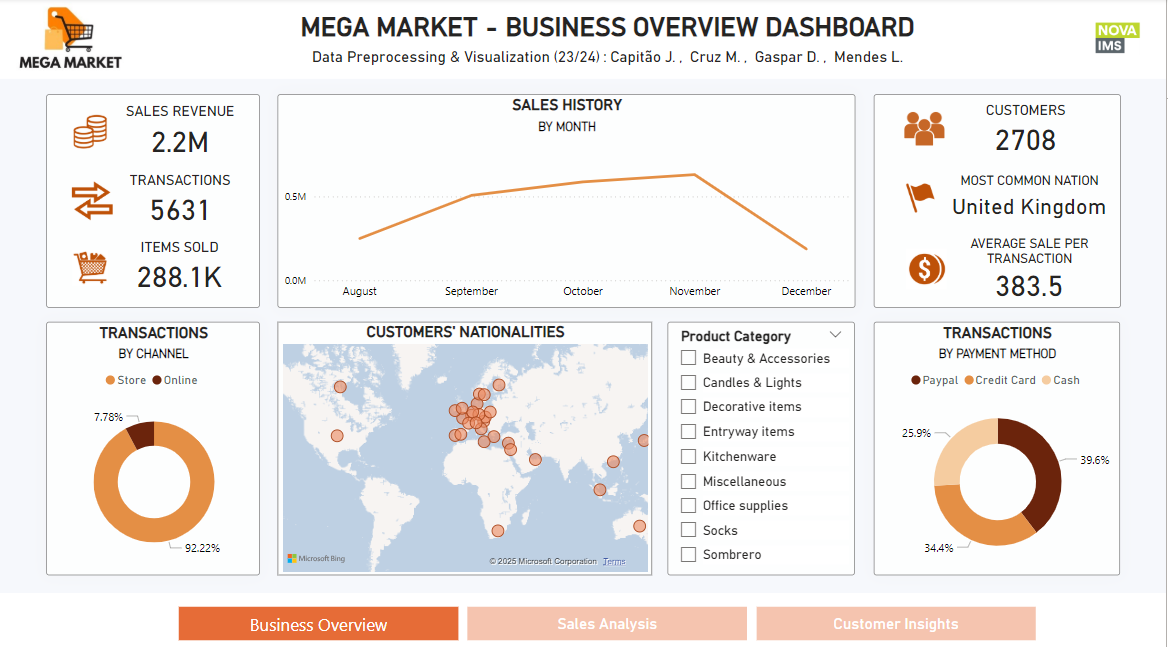

Layout of this report page (visuals, bound fields, positions):
{"tool":"powerbi","page":{"name":"Business Overview","canvas":[1280,720],"ordinal":0},"visuals":[{"type":"basicShape","box":[51.4,105.3,234.3,234.3],"z":0,"group":"g3"},{"type":"basicShape","box":[958.6,105.3,271.4,234.3],"z":0,"group":"g1"},{"type":"shape","box":[0,652.9,1280,67.1],"z":0},{"type":"group","id":"g1","title":"KPI","box":[958.6,105.3,271.4,234.3],"z":1000},{"type":"shape","box":[0,0,1280,88.6],"z":2000},{"type":"group","id":"g2","title":"Stacked Column Chart","box":[304.3,105.3,634.3,234.3],"z":3000},{"type":"lineChart","title":"SALES HISTORY","fields":{"Category":["Transactional_Table (2).Date.Variation.Date Hierarchy.Month"],"Y":["Sum(Transactional_Table (2).Total_payed)"]},"box":[304.3,105.3,634.3,234.3],"z":3500,"group":"g2"},{"type":"pageNavigator","box":[195.7,668.6,942.9,37.1],"z":4000},{"type":"donutChart","title":"TRANSACTIONS","fields":{"Category":["Transactional_Table (2).Channel"],"Y":["Count(Transactional_Table (2).TransactionNo)"]},"box":[51.4,355.7,234.3,278.6],"z":5000},{"type":"donutChart","title":"TRANSACTIONS","fields":{"Category":["Transactional_Table (2).Payment"],"Y":["Count(Transactional_Table (2).TransactionNo)"]},"box":[958.6,355.7,270,278.6],"z":6000},{"type":"map","title":"CUSTOMERS'' NATIONALITIES","fields":{"Category":["Transactional_Table (2).Nationality"]},"box":[304.3,355.7,411.4,278.6],"z":7000},{"type":"image","box":[1198.6,20,58.6,47.1],"z":8000},{"type":"image","box":[10,0,135.7,88.6],"z":9000},{"type":"slicer","fields":{"Values":["Transactional_Table (2).Product_Category_Name"]},"box":[732.9,355.7,205.7,278.6],"z":10000},{"type":"group","id":"g3","title":"KPI","box":[51.4,105.3,234.3,234.3],"z":11000},{"type":"card","title":"SALES REVENUE","fields":{"Values":["Sum(Transactional_Table (2).Total_payed)"]},"box":[130.4,115.3,134.5,63.1],"z":12000},{"type":"card","title":"TRANSACTIONS","fields":{"Values":["Count(Transactional_Table (2).TransactionNo)"]},"box":[130.4,190.7,134.5,63.1],"z":13000},{"type":"card","title":"CUSTOMERS","fields":{"Values":["Count(Transactional_Table (2).CustomerNo)"]},"box":[1059.4,113.9,133.1,63.1],"z":14000},{"type":"card","title":"ITEMS SOLD","fields":{"Values":["Sum(Transactional_Table (2).Quantity)"]},"box":[135.8,264.8,122.1,61.7],"z":15000},{"type":"card","title":"AVERAGE SALE PER TRANSACTION","fields":{"Values":["Table.Avg_Transaction"]},"box":[1040.1,260.2,179.8,72.7],"z":16000},{"type":"card","title":"MOST COMMON NATION","fields":{"Values":["Table.MostCommon_Nation"]},"box":[1040.1,191.5,179.8,54.9],"z":17000},{"type":"textbox","box":[145.7,10,1042.9,45.7],"z":18000},{"type":"textbox","box":[145.7,50,1042.9,35.7],"z":21000},{"type":"image","box":[988,113.9,53.5,59],"z":21001},{"type":"image","box":[988,269.8,57.6,54.9],"z":21002},{"type":"image","box":[71.4,271.7,54.9,49.4],"z":21003},{"type":"image","box":[988,194.2,45.3,49.4],"z":21004},{"type":"image","box":[71.4,120.8,54.9,52.1],"z":21005},{"type":"image","box":[74.1,193.5,54.9,57.6],"z":21006}]}

Visuals, with their boxes in screenshot pixels (x1, y1, x2, y2), scaled from the page's 1280x720 canvas onto the 1168x647 screenshot:
basicShape: detection(47, 95, 261, 305)
basicShape: detection(875, 95, 1122, 305)
shape: detection(0, 587, 1167, 646)
"KPI" group: detection(875, 95, 1122, 305)
shape: detection(0, 0, 1167, 80)
"Stacked Column Chart" group: detection(278, 95, 856, 305)
"SALES HISTORY" lineChart: detection(278, 95, 856, 305)
pageNavigator: detection(179, 601, 1039, 634)
"TRANSACTIONS" donutChart: detection(47, 320, 261, 570)
"TRANSACTIONS" donutChart: detection(875, 320, 1121, 570)
"CUSTOMERS'' NATIONALITIES" map: detection(278, 320, 653, 570)
image: detection(1094, 18, 1147, 60)
image: detection(9, 0, 133, 80)
slicer - Transactional_Table (2).Product_Category_Name: detection(669, 320, 856, 570)
"KPI" group: detection(47, 95, 261, 305)
"SALES REVENUE" card: detection(119, 104, 242, 160)
"TRANSACTIONS" card: detection(119, 171, 242, 228)
"CUSTOMERS" card: detection(967, 102, 1088, 159)
"ITEMS SOLD" card: detection(124, 238, 235, 293)
"AVERAGE SALE PER TRANSACTION" card: detection(949, 234, 1113, 299)
"MOST COMMON NATION" card: detection(949, 172, 1113, 221)
textbox: detection(133, 9, 1085, 50)
textbox: detection(133, 45, 1085, 77)
image: detection(902, 102, 950, 155)
image: detection(902, 242, 954, 292)
image: detection(65, 244, 115, 289)
image: detection(902, 175, 943, 219)
image: detection(65, 109, 115, 155)
image: detection(68, 174, 118, 226)
